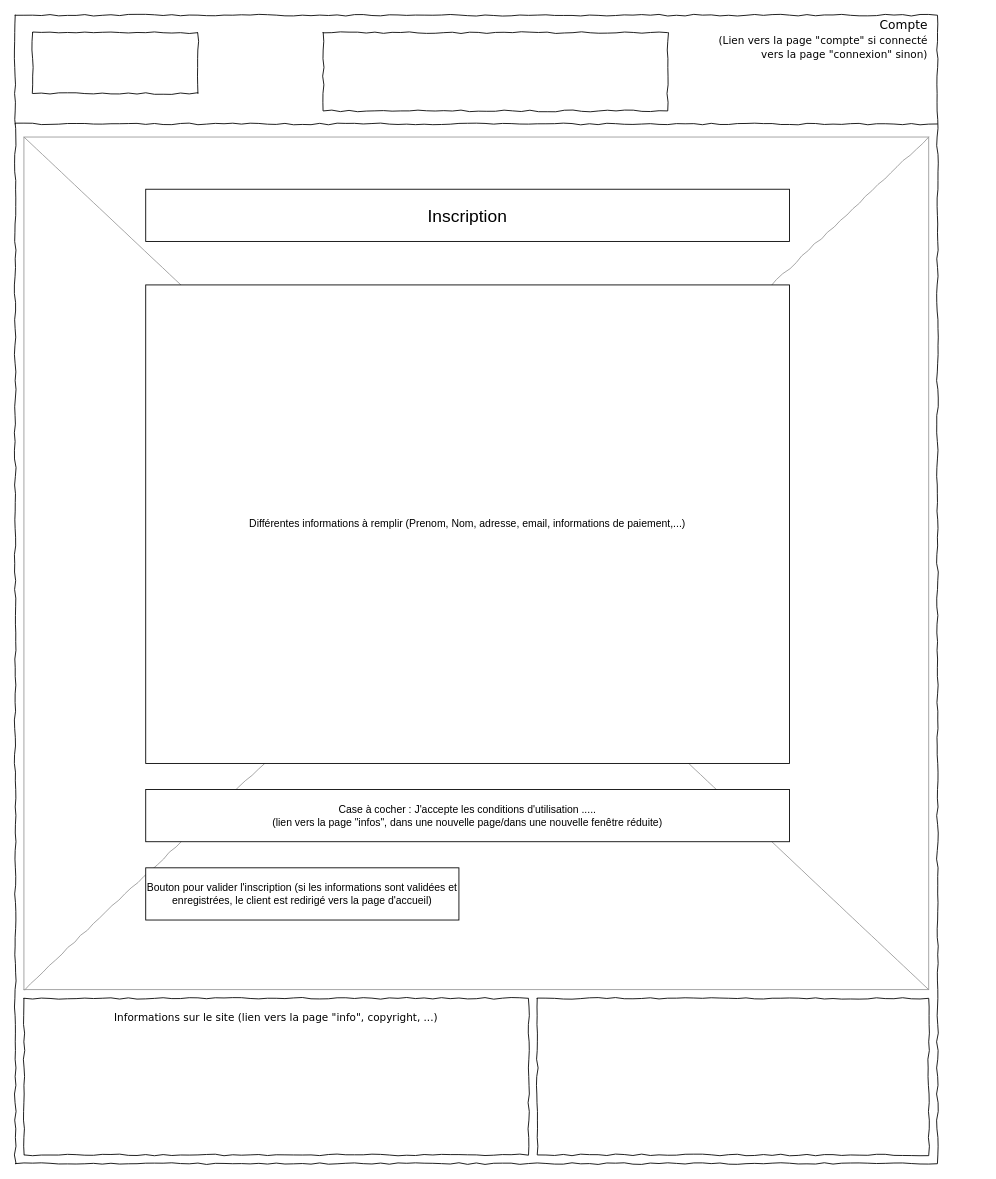
Some shapes in this 996 by 1179 pixel diagram are drawn without their labels. Each missing label, with the centre of its shape:
Bienvenue ...: pixel 495 71
LOGO (Lien vers la page "accueil"): pixel 115 63
Nous contacter: pixel 732 1076
